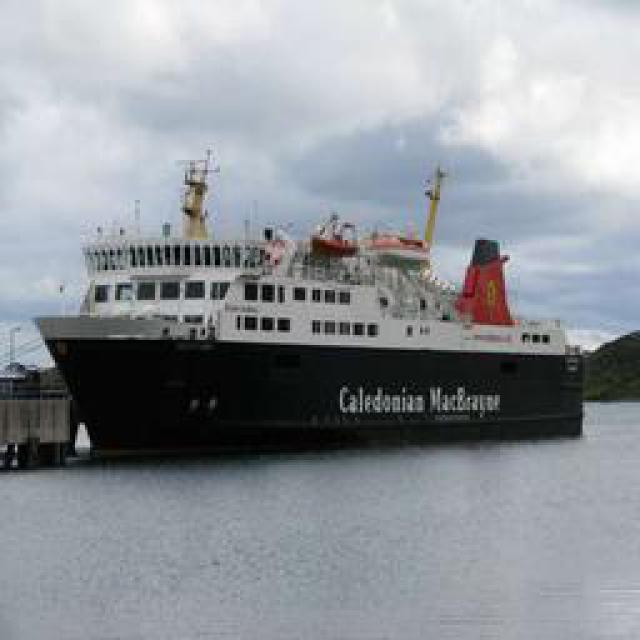Ship: (30, 187, 585, 450)
